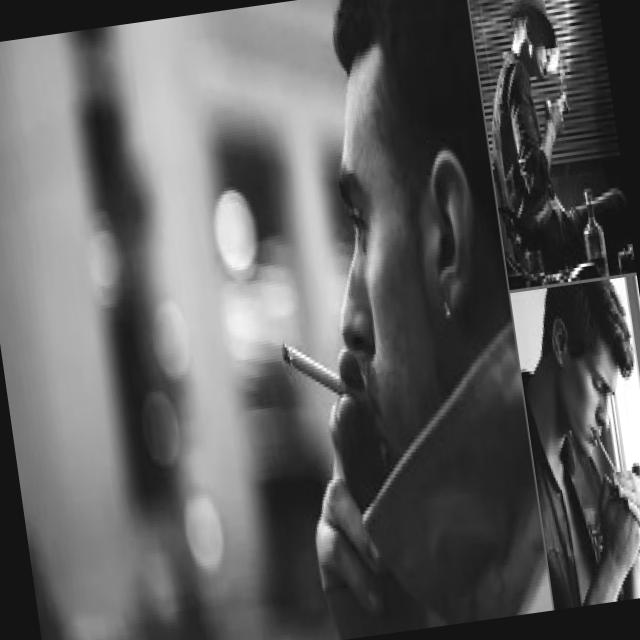smoke: (278, 326, 359, 424), (593, 421, 622, 484)
